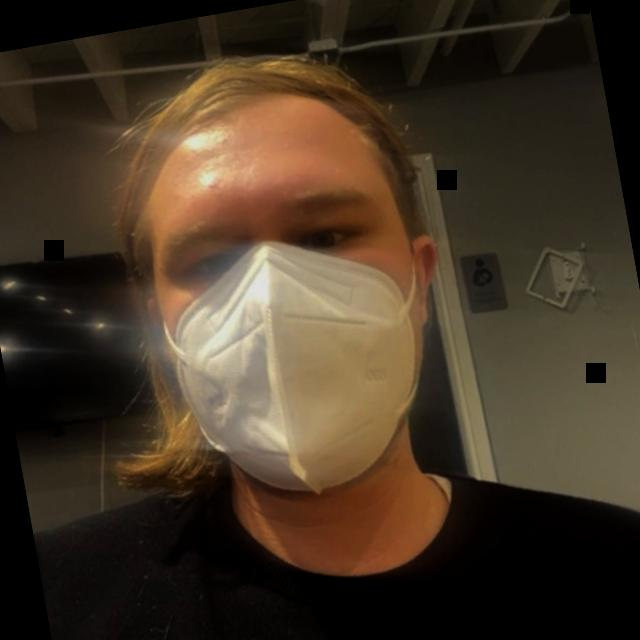Mask: (51, 10, 553, 625)
